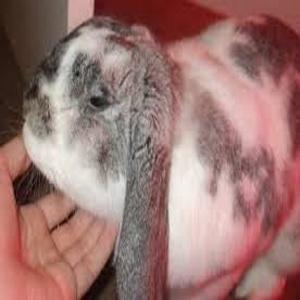rabbit: (21, 14, 300, 296)
